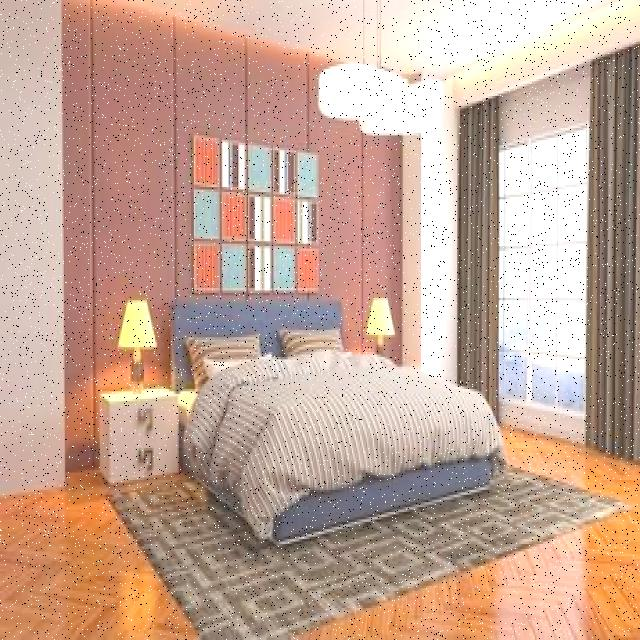bed: (180, 302, 482, 530), (482, 522, 484, 526)
